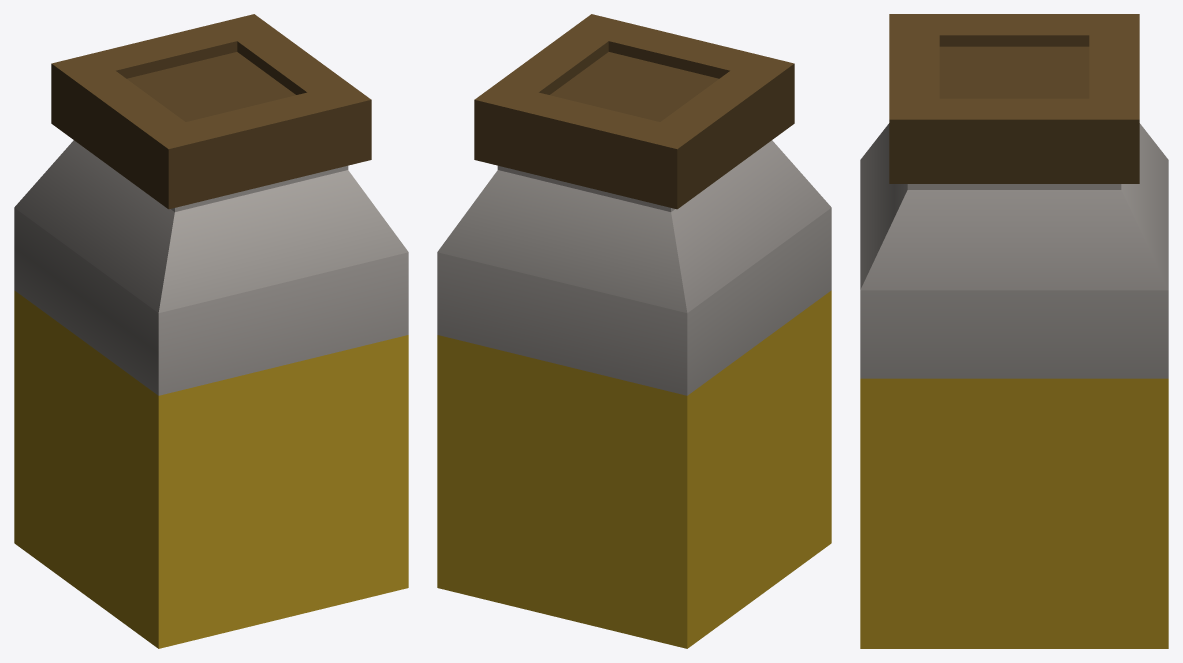
File: AI_Item_Jar.fbx
The picture shows the model from 3 angles, left to right: view 1: azimuth 30°, elevation 25°; view 2: azimuth 150°, elevation 25°; view 3: azimuth 270°, elevation 25°; orthographic projection. The views are drawn at different scales.
Parts seen in each view (by area): view 1: AI_Item_Jar; view 2: AI_Item_Jar; view 3: AI_Item_Jar.
Boxes of the visible parts, x1,y1,x2,y2 form: AI_Item_Jar: [14, 14, 408, 648]; AI_Item_Jar: [437, 14, 831, 648]; AI_Item_Jar: [860, 14, 1168, 648].
Size of the model in its own units: 0.2769 by 0.512 by 0.2769.
